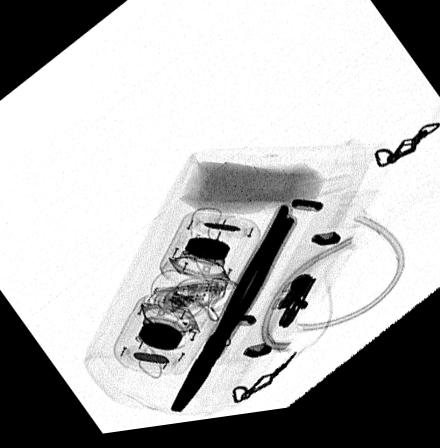Pliers: (170, 209, 298, 416)
